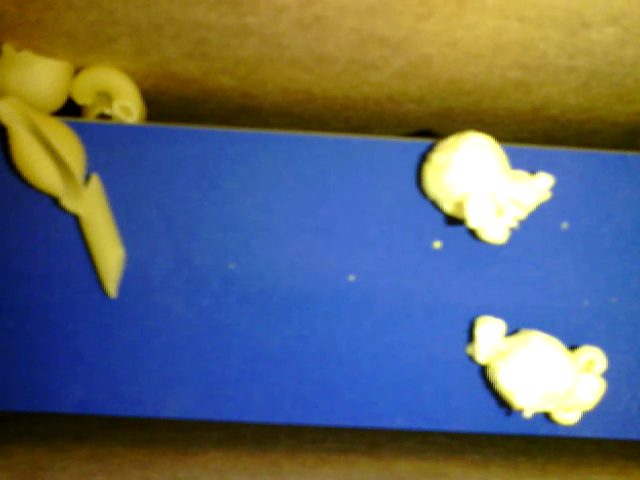elbow: (70, 66, 142, 121)
penne: (78, 171, 125, 299)
shell: (1, 97, 88, 214), (1, 42, 74, 114), (85, 93, 147, 123)
